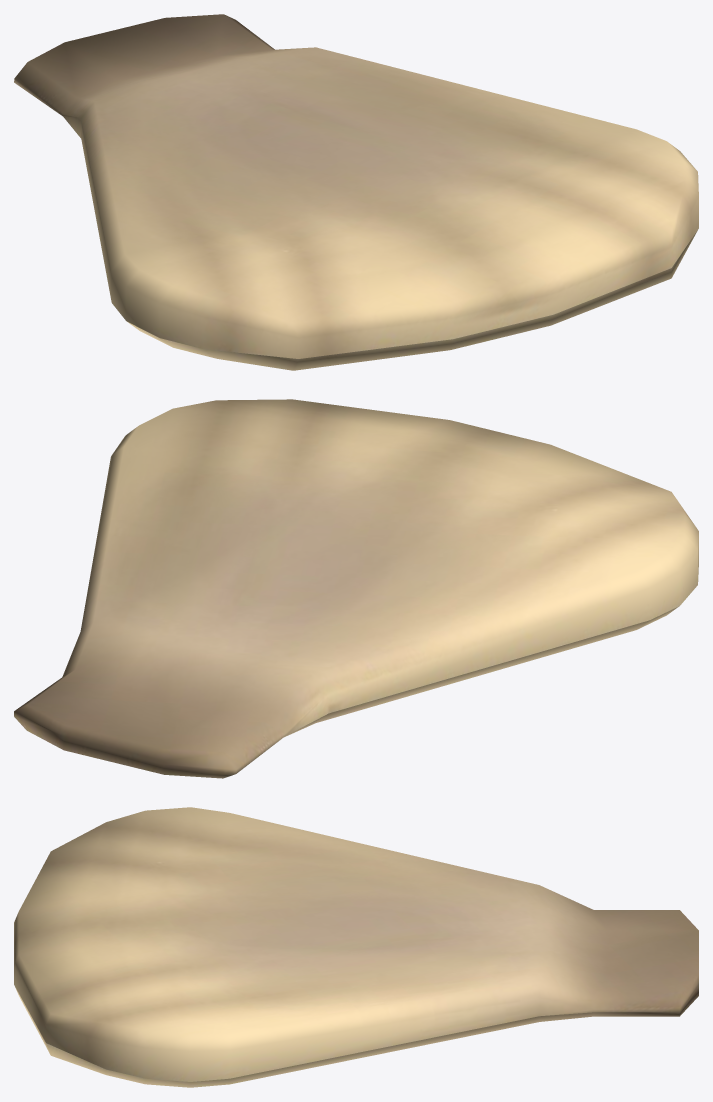
The model's file is Clam.fbx.
3 renders of one model, top to bottom at view 1: azimuth 30°, elevation 25°; view 2: azimuth 150°, elevation 25°; view 3: azimuth 270°, elevation 25°, orthographic. The views are drawn at different scales.
Visible parts, largest first — view 1: Clam; view 2: Clam; view 3: Clam.
Part boxes in pixels (x1,y1,x2,y2): Clam: (14, 14, 698, 370); Clam: (14, 399, 698, 778); Clam: (14, 807, 698, 1087).
Size of the model in its own units: 10.27 by 1.08 by 12.48.
